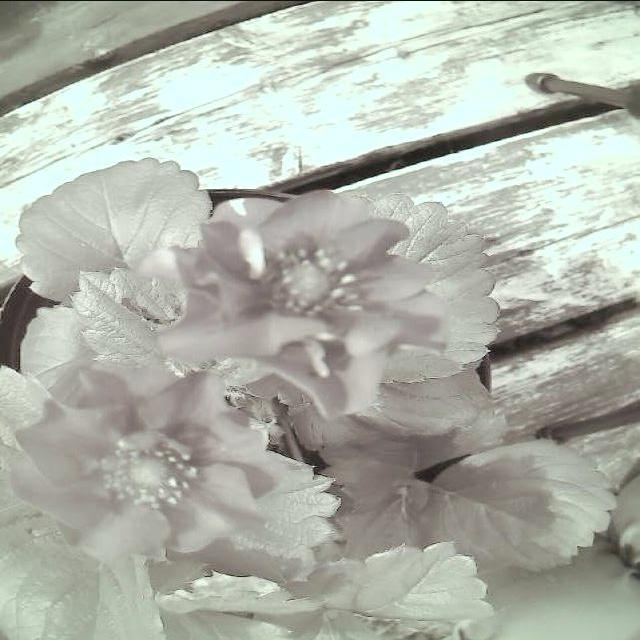flower: (148, 188, 458, 417), (6, 350, 283, 572)
